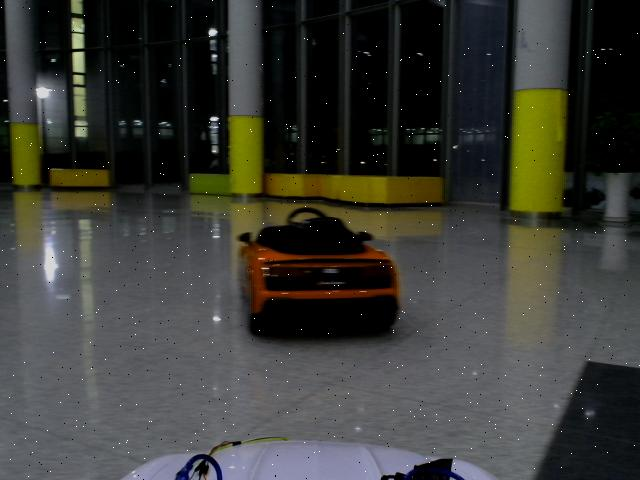car: (237, 206, 397, 329)
